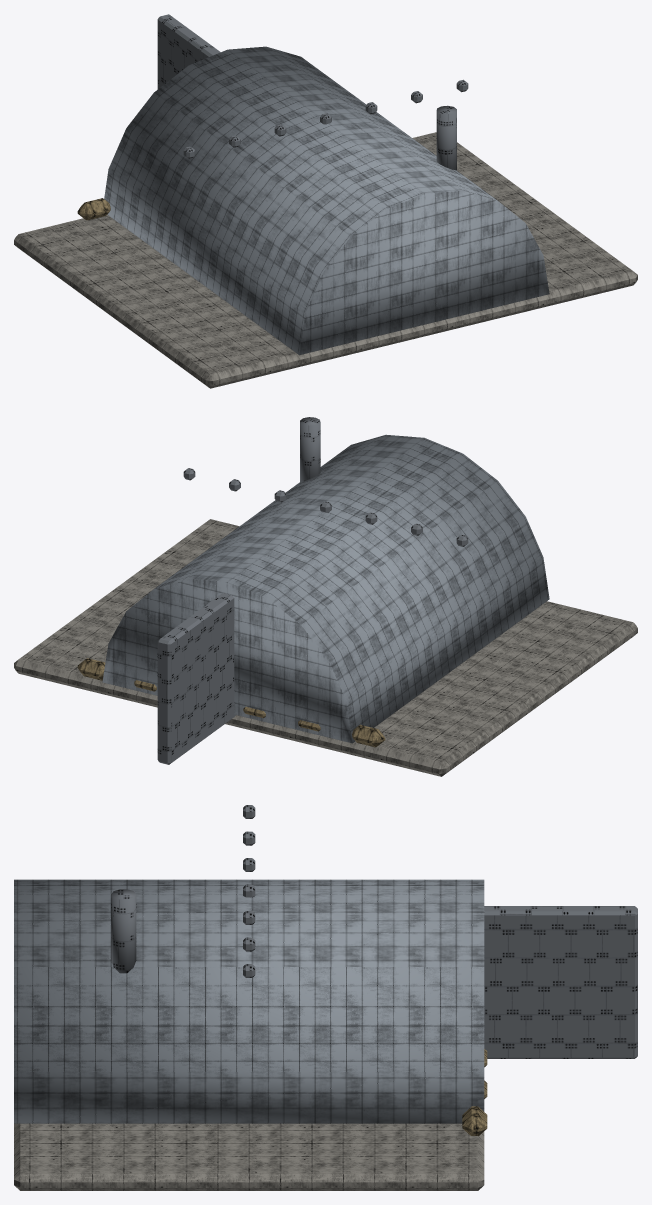
File: barracks.glb
3 views of the same model, one above another, from view 1: azimuth 30°, elevation 25°; view 2: azimuth 150°, elevation 25°; view 3: azimuth 270°, elevation 25° (orthographic). The views are drawn at different scales.
Visible parts, largest first — view 1: quonset, pad, front_wall, chimney, bag0; view 2: quonset, pad, front_wall, chimney, bag0; view 3: quonset, pad, front_wall, chimney, bag5.
Boxes of the visible parts, <box> form: quonset: <box>104,46,549,355</box>; pad: <box>14,132,637,388</box>; front_wall: <box>157,14,220,89</box>; chimney: <box>436,105,456,170</box>; bag0: <box>77,198,110,220</box>; quonset: <box>102,434,549,743</box>; pad: <box>14,519,637,776</box>; front_wall: <box>157,593,235,764</box>; chimney: <box>300,417,320,481</box>; bag0: <box>352,724,385,747</box>; quonset: <box>14,879,484,1123</box>; pad: <box>14,1123,484,1190</box>; front_wall: <box>484,906,637,1058</box>; chimney: <box>111,889,136,973</box>; bag5: <box>462,1106,487,1136</box>.
Bounding box in the file's own units: 190 × 75 × 199.
Materials: 5 (5 with a texture image).
